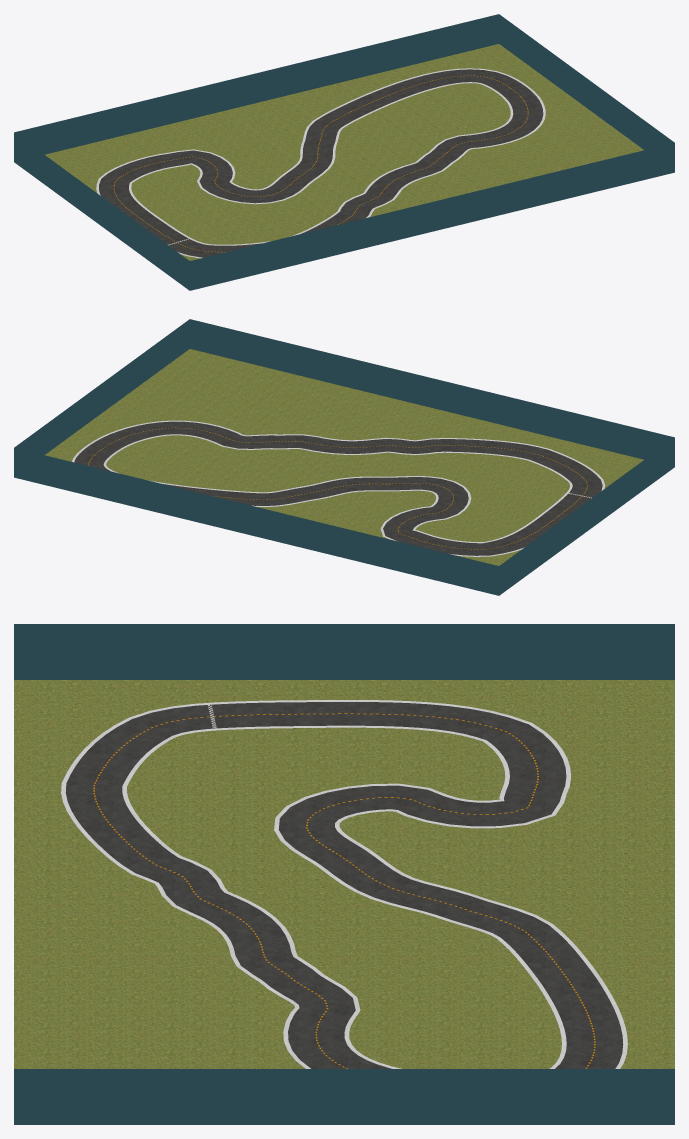
Rendered from 2022_august_open_cw.dae.
3 views of the same model, one above another, from view 1: azimuth 30°, elevation 25°; view 2: azimuth 150°, elevation 25°; view 3: azimuth 270°, elevation 25° (orthographic). The views are drawn at different scales.
Parts seen in each view (by area): view 1: field, wall, road, ol, il, cl; view 2: field, wall, road, ol, il, cl; view 3: field, wall, road, il, ol, cl.
Boxes of the visible parts, bbox=[...] form: field: bbox=[45, 44, 643, 260]; wall: bbox=[14, 14, 674, 290]; road: bbox=[99, 69, 543, 257]; ol: bbox=[129, 82, 513, 245]; il: bbox=[96, 68, 545, 258]; cl: bbox=[113, 75, 528, 252]; field: bbox=[45, 349, 643, 565]; wall: bbox=[14, 319, 674, 595]; road: bbox=[74, 421, 602, 556]; ol: bbox=[103, 434, 572, 543]; il: bbox=[72, 420, 605, 556]; cl: bbox=[88, 427, 587, 549]; field: bbox=[14, 680, 674, 1068]; wall: bbox=[14, 624, 674, 1124]; road: bbox=[65, 702, 623, 1068]; il: bbox=[61, 700, 627, 1068]; ol: bbox=[122, 725, 566, 1068]; cl: bbox=[93, 713, 595, 1068].
Bounding box in the file's own units: 17.04 × 10.7 × 1.
7 materials, 7 textured.
